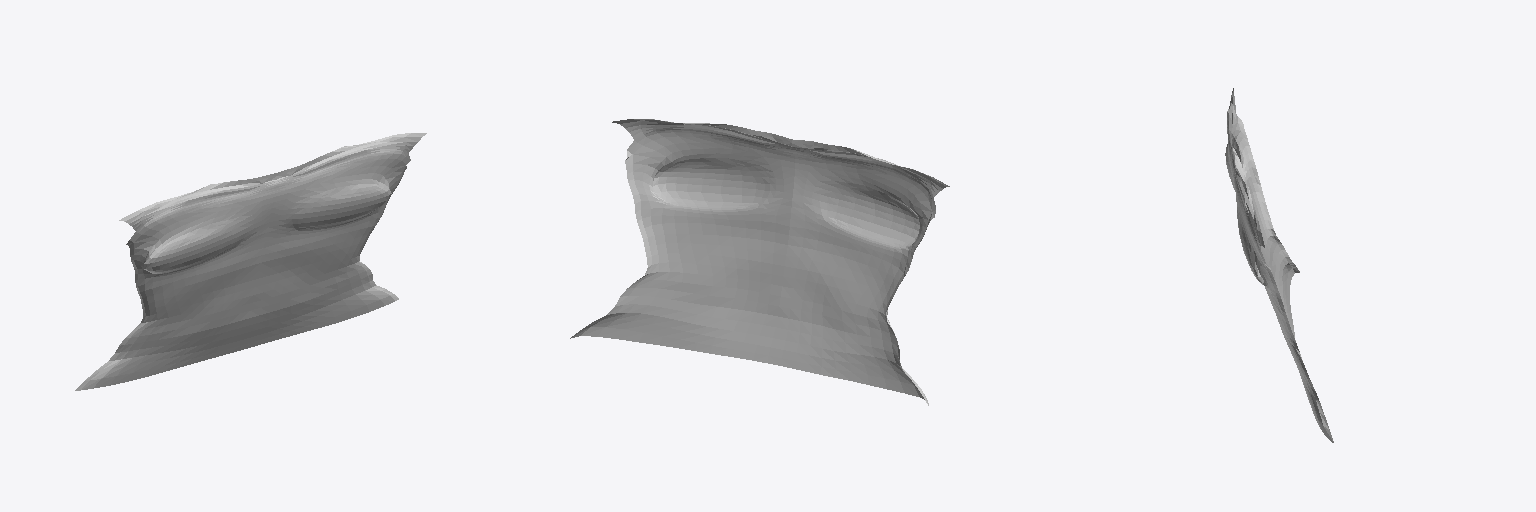
Rendered from deformed_alpha_35_ModelRot.obj.
3 renders of one model, left to right at view 1: azimuth 30°, elevation 25°; view 2: azimuth 150°, elevation 25°; view 3: azimuth 270°, elevation 25°, orthographic.
Bounding box in the file's own units: 0.6827 × 0.399 × 0.1886.